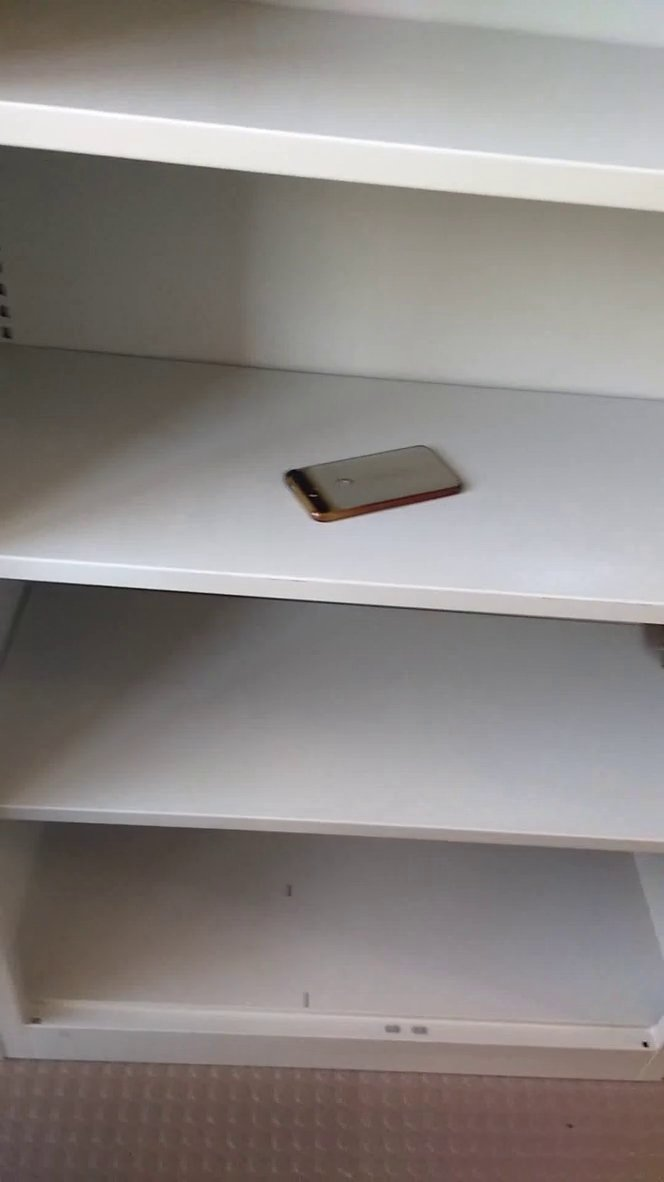phone: (276, 430, 482, 547)
